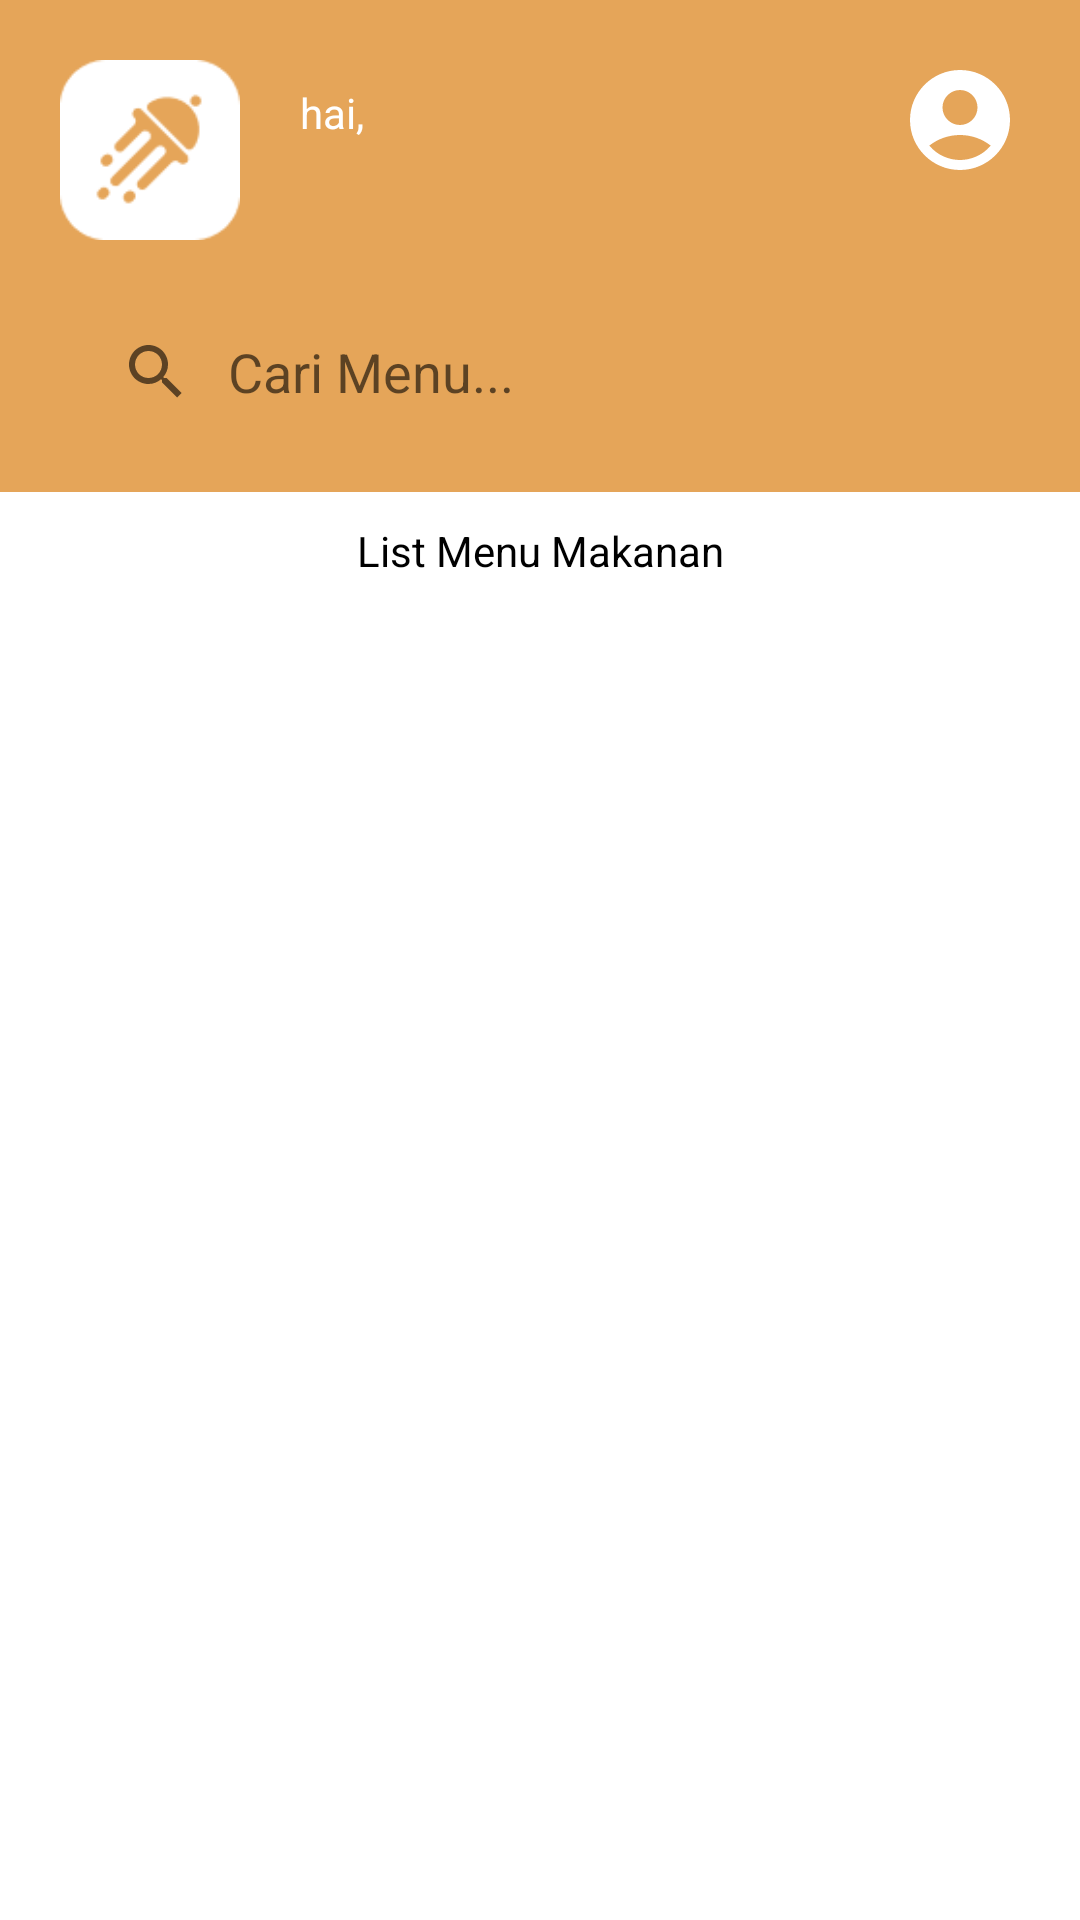

Screen size 1080w x 1920h. Icon name, then its center in pixels as [x,y]:
account: [960,120]
